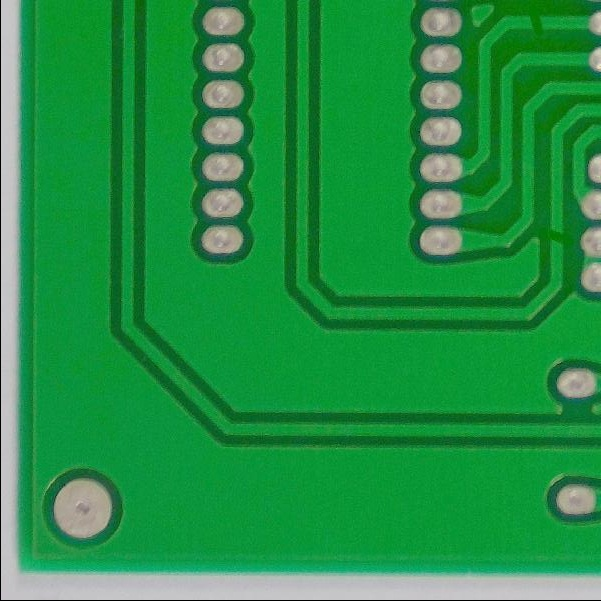open_circuit: (540, 227, 568, 252), (522, 12, 548, 36)
